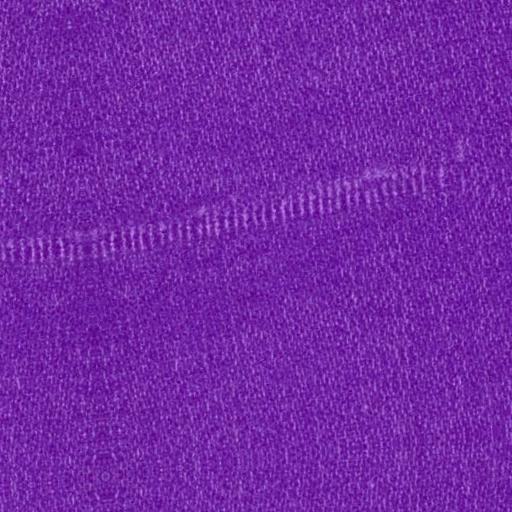slub: (0, 159, 471, 280)
